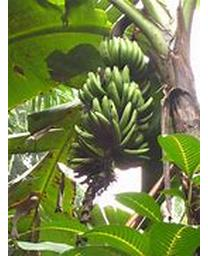banana: (77, 36, 157, 179)
